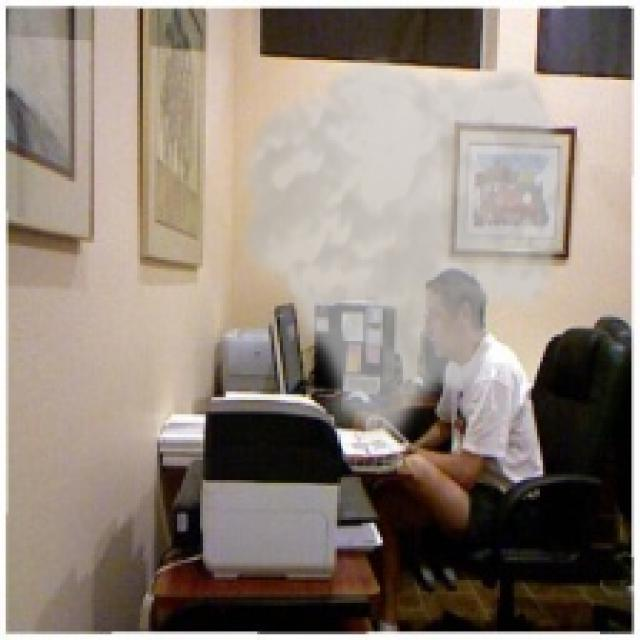Smoke: (228, 51, 574, 448)
